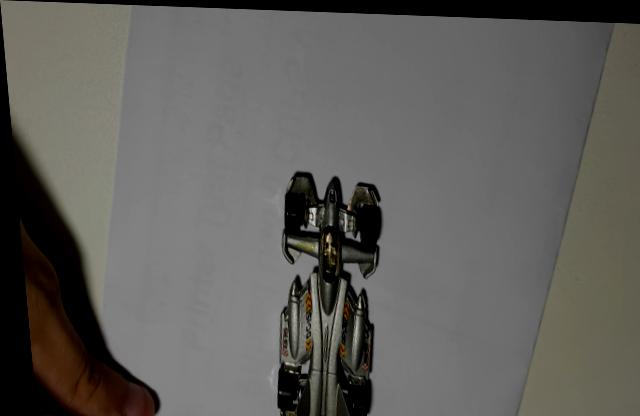05_DC121: (267, 168, 380, 416)
